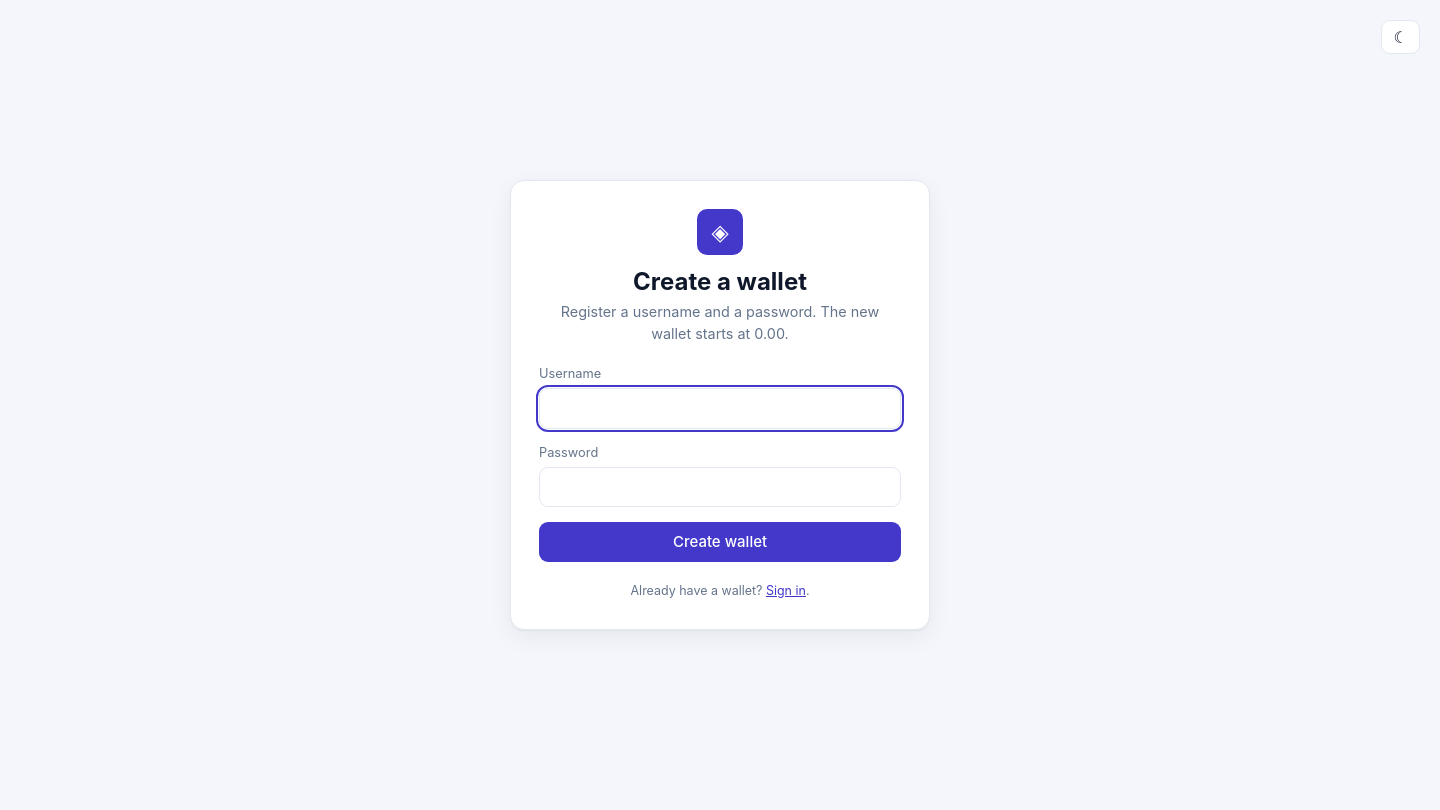
it: register › sends the credentials, signs the new wallet in and lands on the dashboard
The image size is (1440, 810).
Type "bob" into the field labelled "Username" at (720, 408), box [539, 388, 901, 429]
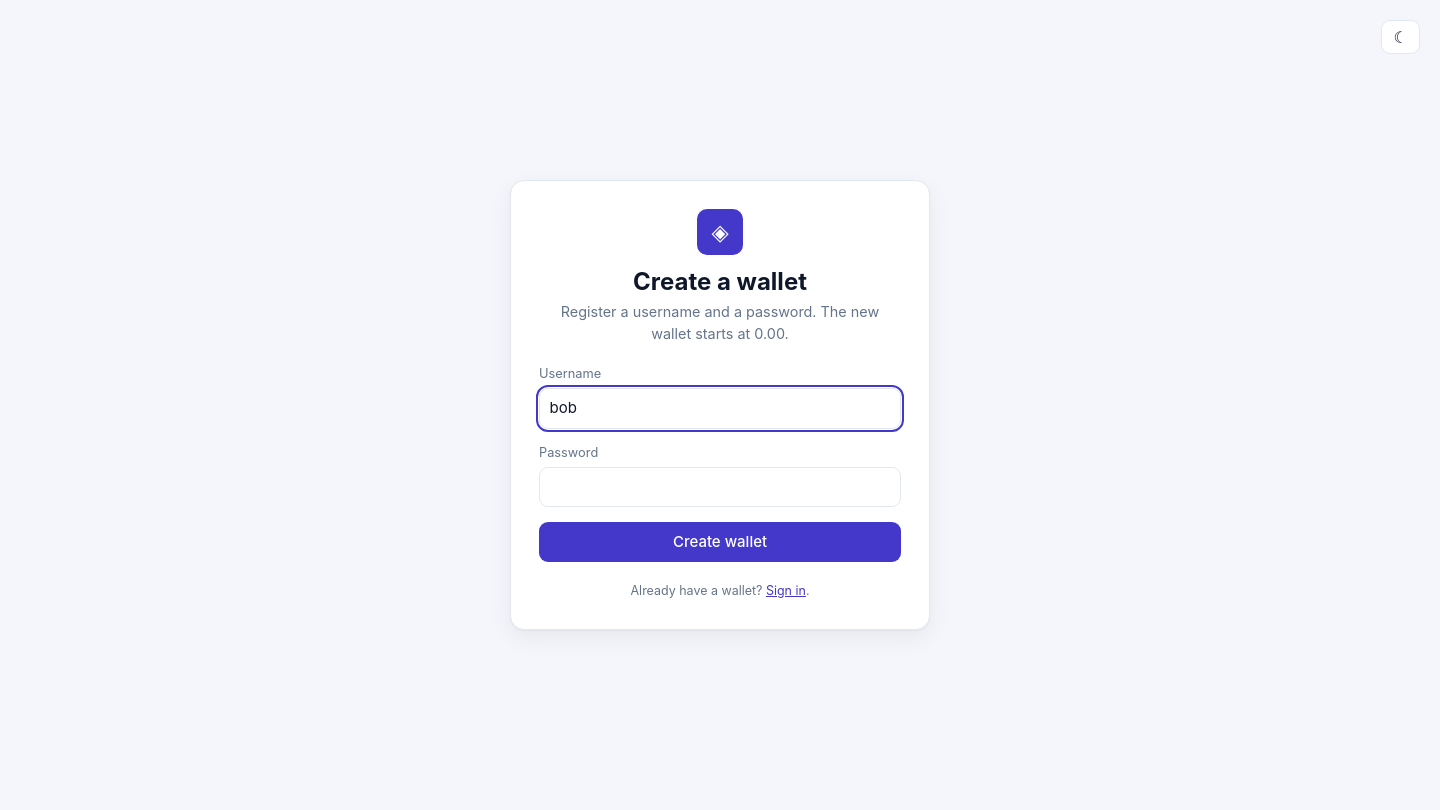
Type "passw0rd!" into the password field labelled "Password" at (720, 487), box [539, 467, 901, 508]
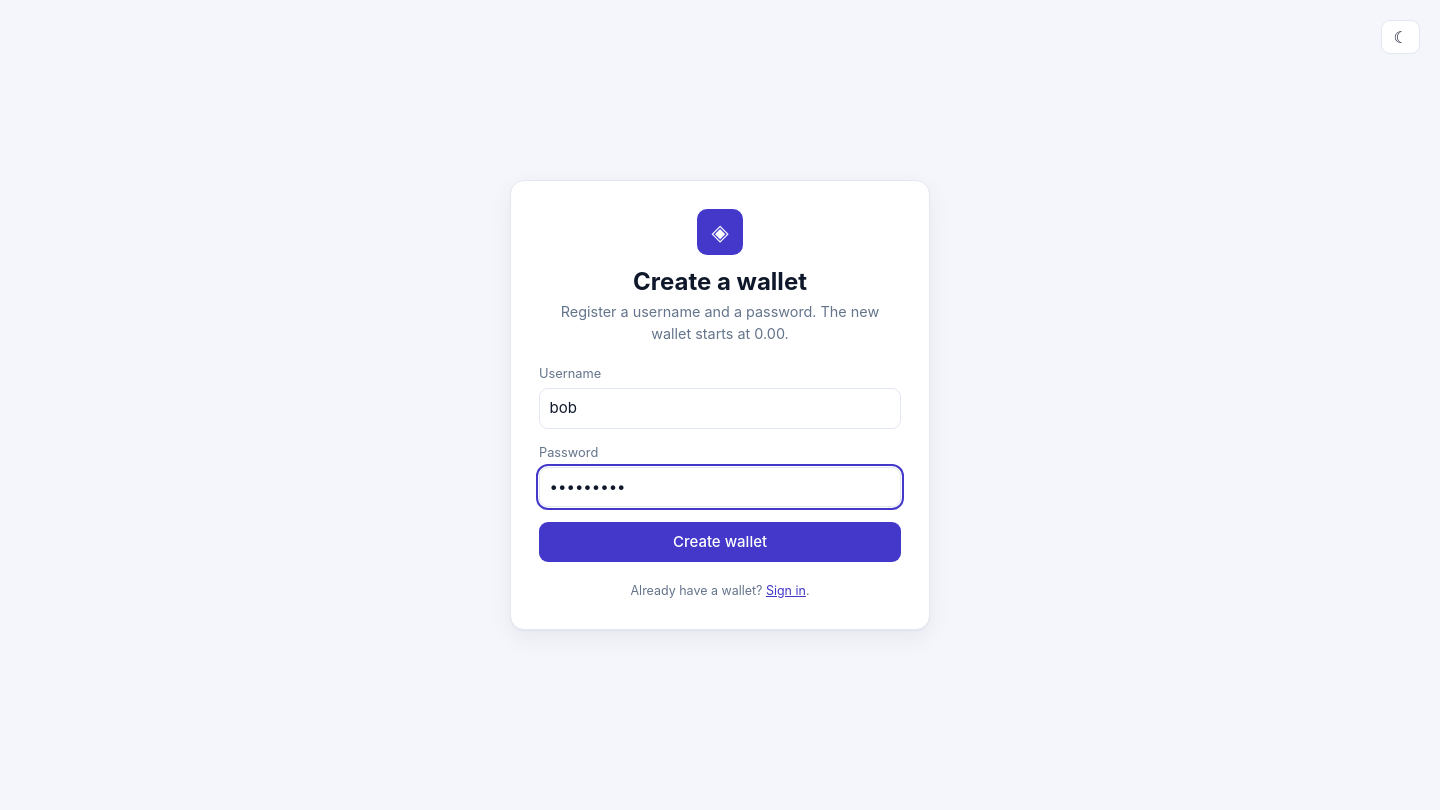
Click the button "Create wallet" at (720, 542), box [539, 522, 901, 562]
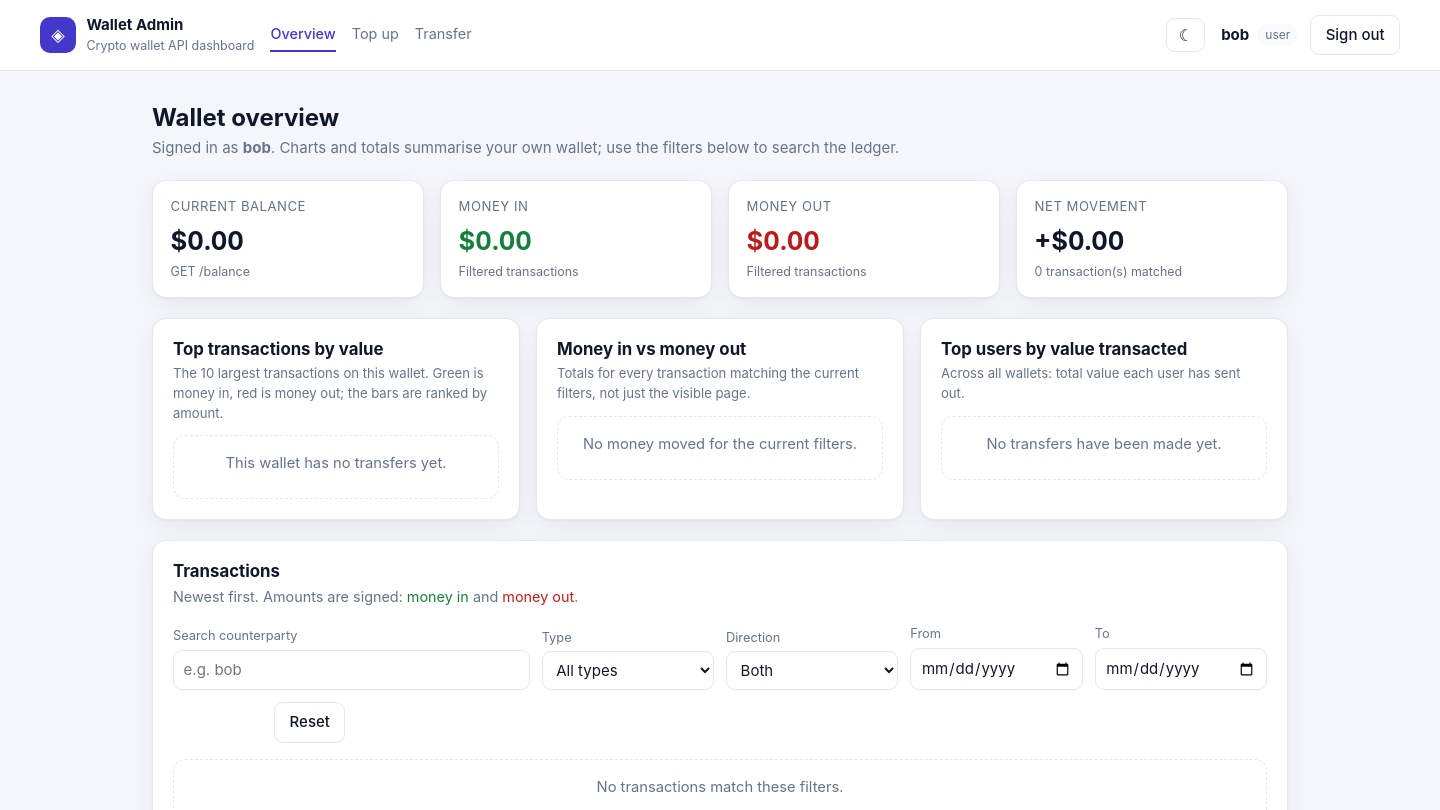
Expected: the heading "Wallet overview" is shown, [152, 103, 339, 132]
